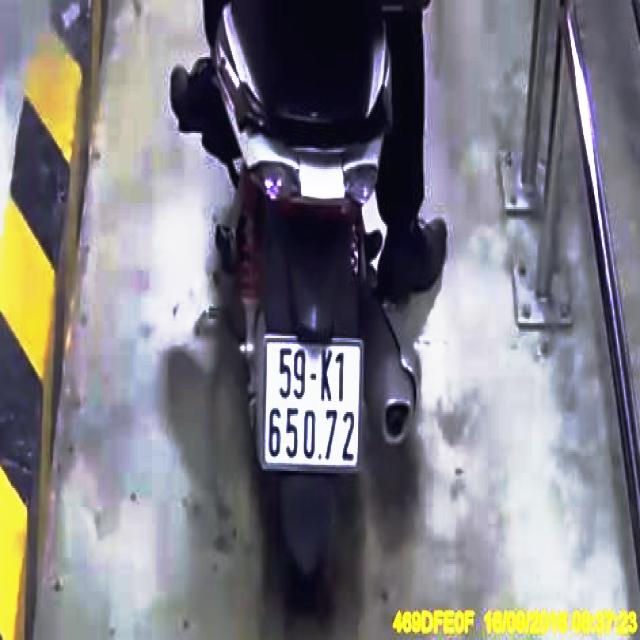license_plate: (261, 339, 363, 473)
